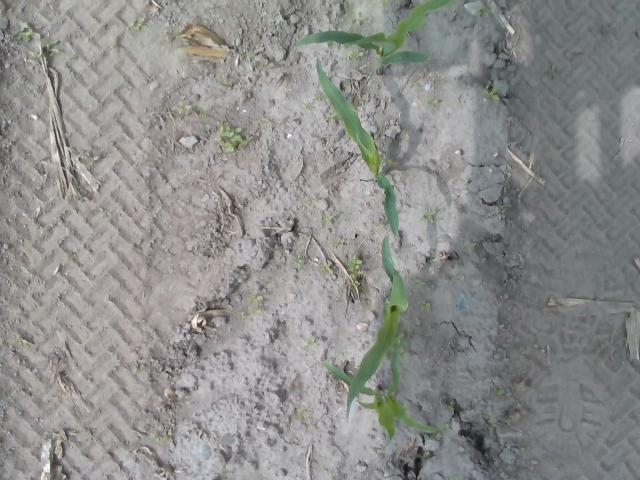Maize: (314, 56, 400, 238), (292, 0, 454, 76), (344, 238, 410, 423), (324, 344, 437, 449)
Weeds: (215, 120, 248, 154), (29, 37, 51, 64), (346, 252, 362, 288), (345, 0, 367, 25), (247, 291, 266, 317), (481, 86, 501, 103), (128, 16, 148, 33), (14, 19, 30, 40), (170, 100, 193, 113), (419, 207, 436, 224), (344, 48, 363, 61), (396, 333, 407, 353), (154, 432, 172, 444), (463, 239, 474, 257), (426, 96, 439, 110), (302, 336, 316, 349), (492, 385, 506, 398), (479, 6, 494, 18), (321, 263, 332, 278), (434, 422, 450, 432), (420, 301, 432, 314), (292, 256, 304, 269), (414, 278, 424, 289), (322, 216, 333, 226), (295, 408, 307, 417), (386, 158, 396, 168), (336, 239, 346, 248), (302, 196, 310, 207), (448, 475, 465, 480), (448, 400, 457, 409), (258, 63, 272, 68), (380, 0, 389, 7)
